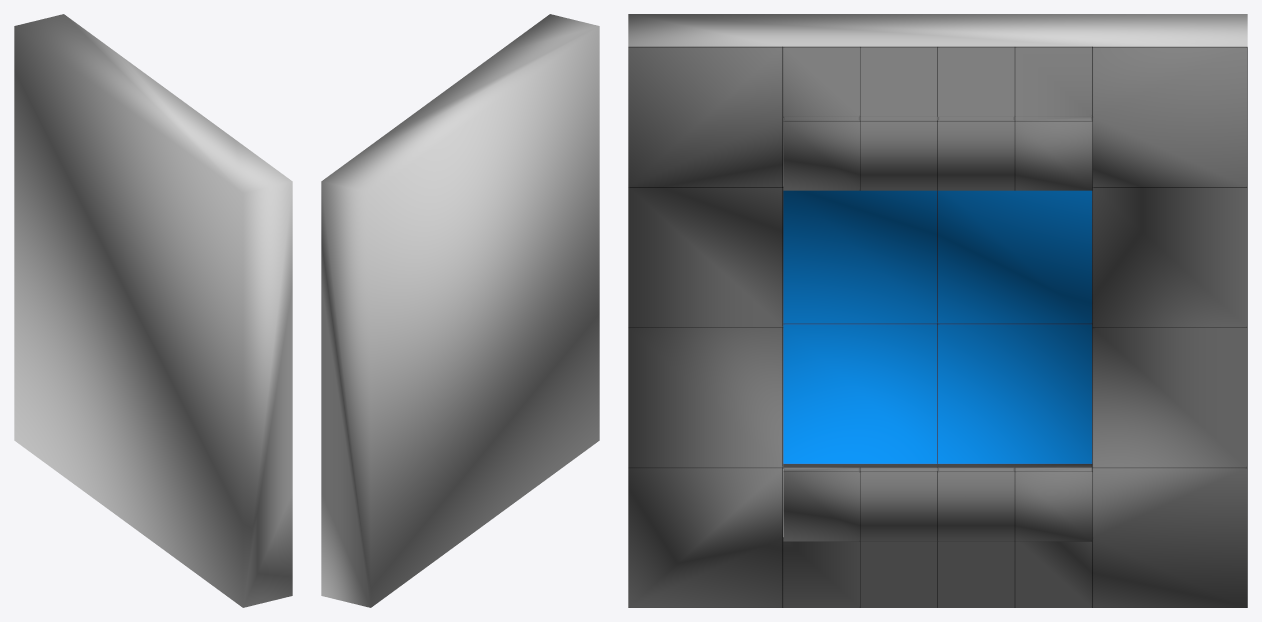
The model's file is wall.fbx.
3 views of the same model, side by side, from view 1: azimuth 30°, elevation 25°; view 2: azimuth 150°, elevation 25°; view 3: azimuth 270°, elevation 25° (orthographic). The views are drawn at different scales.
Parts seen in each view (by area): view 1: Cube; view 2: Cube; view 3: Cube.
Boxes of the visible parts, bbox=[...] form: Cube: bbox=[14, 14, 292, 607]; Cube: bbox=[321, 14, 599, 607]; Cube: bbox=[628, 14, 1247, 607].
Size of the model in its own units: 1.45 by 10.4 by 10.4.
2 materials, 1 textured.
